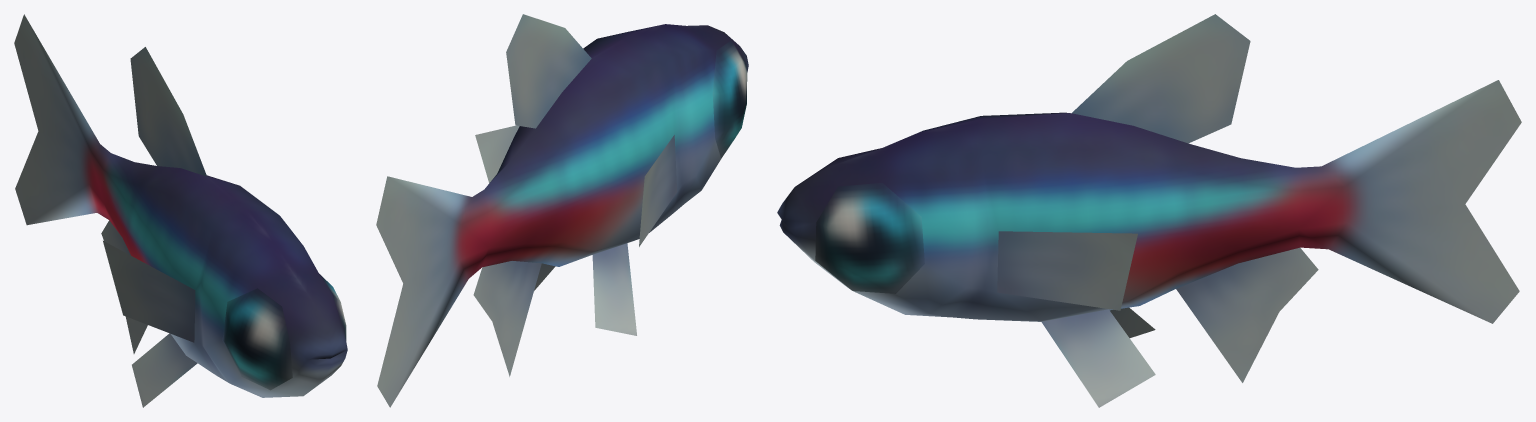
The model's file is neon-tetra.glb.
3 views of the same model, side by side, from view 1: azimuth 30°, elevation 25°; view 2: azimuth 150°, elevation 25°; view 3: azimuth 270°, elevation 25° (orthographic). The views are drawn at different scales.
Visible parts, largest first — view 1: FishNeontetora__mNeontetora; view 2: FishNeontetora__mNeontetora; view 3: FishNeontetora__mNeontetora.
Part boxes in pixels (box(x1,y1,x2,y2)): FishNeontetora__mNeontetora: box(14, 14, 347, 407); FishNeontetora__mNeontetora: box(376, 14, 748, 407); FishNeontetora__mNeontetora: box(777, 14, 1521, 407).
Size of the model in its own units: 0.6076 by 1.21 by 2.21.
Materials: 1 (1 with a texture image).
